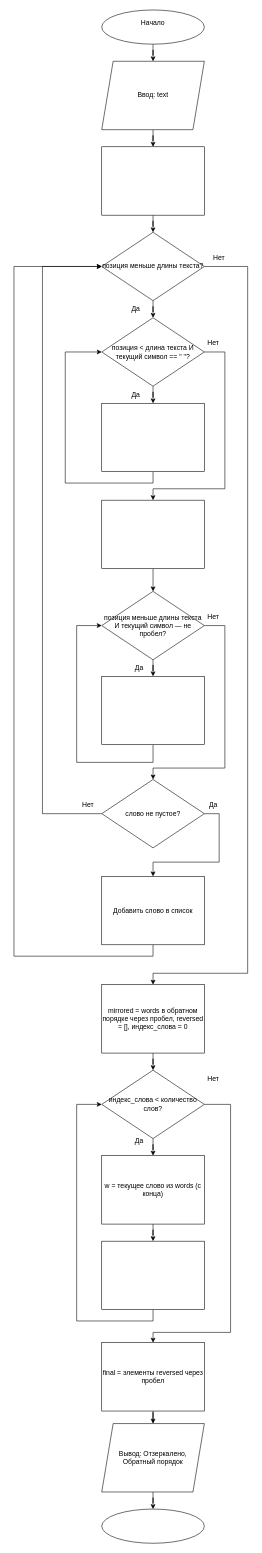
This 262x1553 diagram has some shape labels left out. The centre of each missing label's shape, as x and y in pixels:
"Добавить в reversed перевернутое слово w[::-1], индекс_слова += 1" goes at point (152, 1275).
"Добавить текущий символ к слову и увеличить позицию на 1" goes at point (152, 710).
"Задать счётчик позиции = 0 и пустой список слов" goes at point (152, 180).
"Задать текущее слово пустым" goes at point (152, 534).
"Конец" goes at point (152, 1526).
"Увеличить позицию на 1" goes at point (152, 437).
